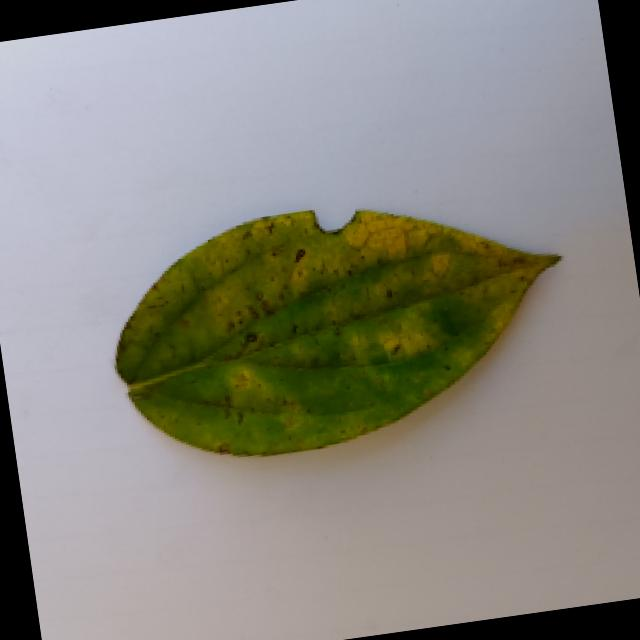slow-decline: (90, 178, 590, 489)
